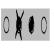correct: (28, 15, 34, 35)
not correct: (15, 8, 24, 42)
